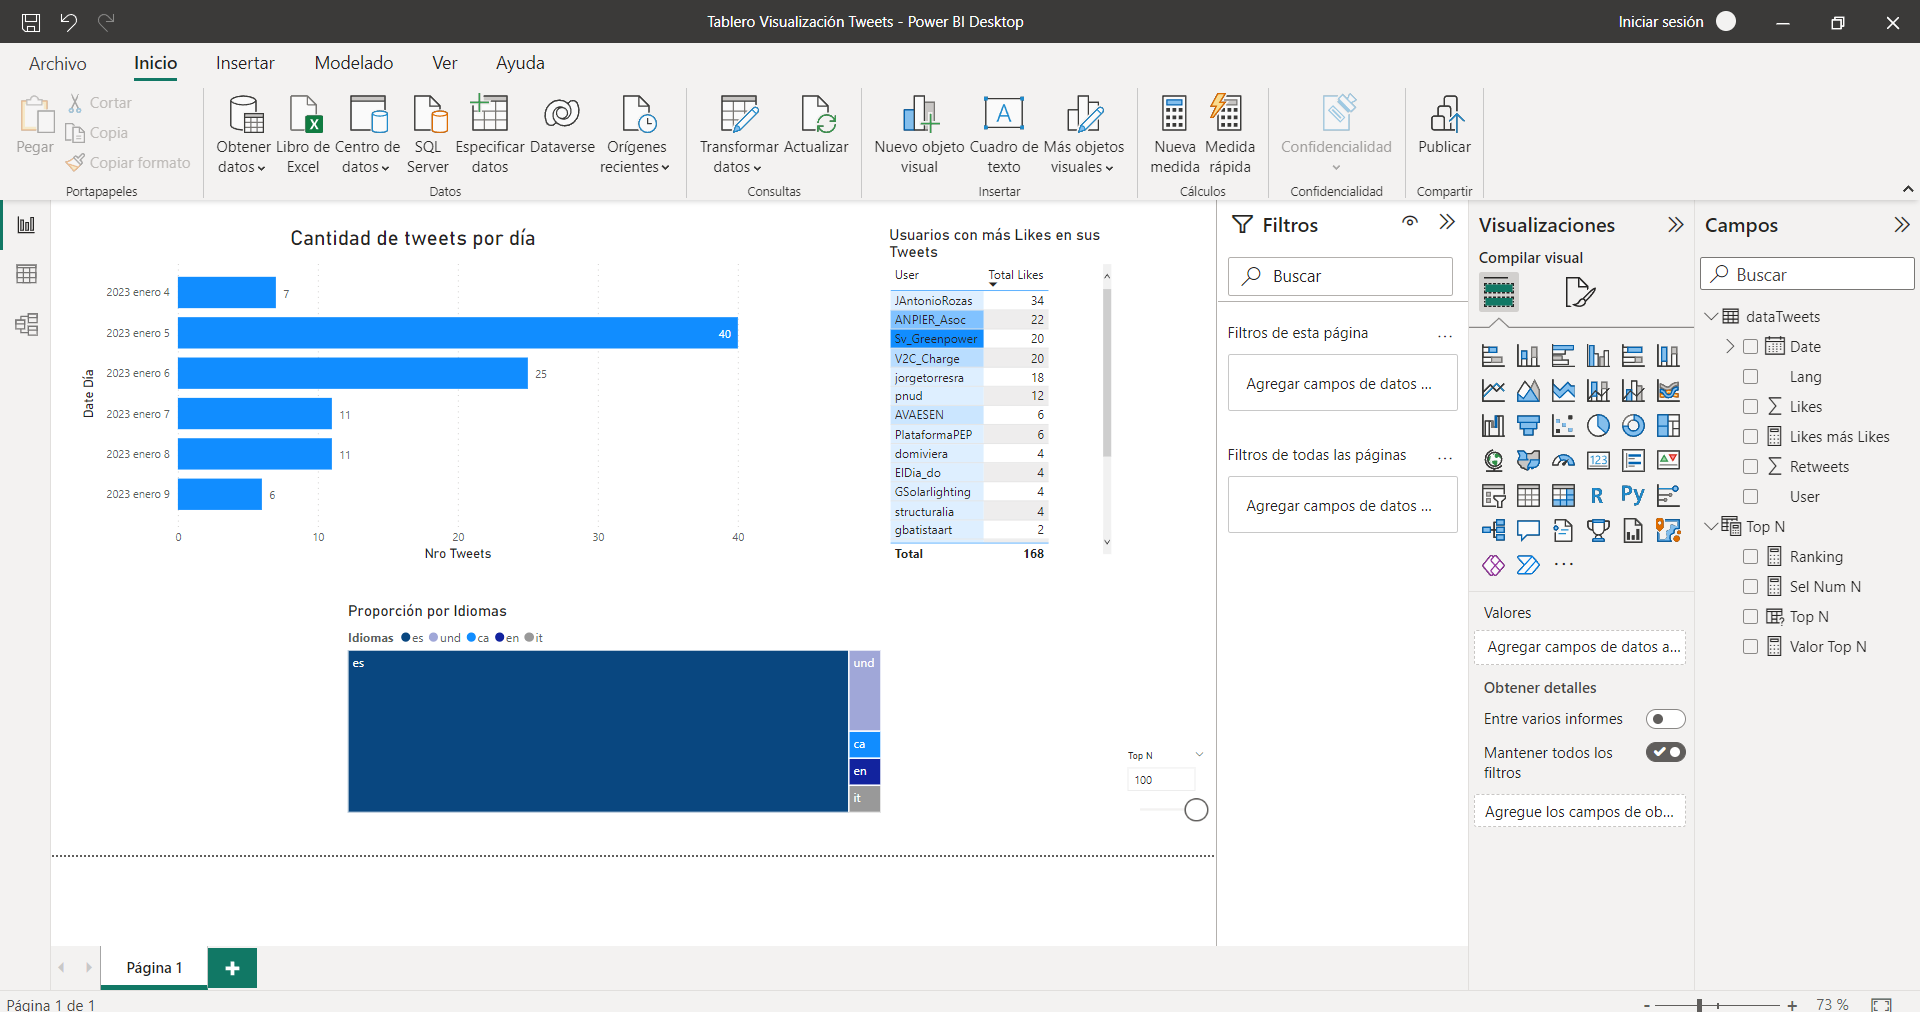

The dashboard page shown, as its layout file describes it:
{"tool":"powerbi","page":{"name":"Página 1","canvas":[1280,720],"ordinal":0},"visuals":[{"type":"barChart","title":"Cantidad de tweets por día","fields":{"Category":["dataTweets.Date.Variación.Jerarquía de fechas.Año","dataTweets.Date.Variación.Jerarquía de fechas.Mes","dataTweets.Date.Variación.Jerarquía de fechas.Día"],"Y":["dataTweets.Date"]},"box":[28.6,26.9,738.2,375],"z":0},{"type":"tableEx","title":"Usuarios con más Likes en sus Tweets","fields":{"Values":["dataTweets.User","dataTweets.Likes más Likes"]},"box":[916.4,26.9,253.9,375],"z":1000},{"type":"treemap","fields":{"Group":["dataTweets.Lang"],"Values":["dataTweets.Lang"]},"box":[321.2,440.6,595.3,237.1],"z":2000},{"type":"slicer","fields":{"Values":["Top N.Top N"]},"box":[1170.3,598.6,109.3,121.1],"z":3000}]}

Visuals, with their boxes on the page's 1280x720 design canvas (x1, y1, x2, y2). These are canvas units, not pixel positions in the 1920x1012 screenshot, which may show the page scaled, cropped or inside an application window:
"Cantidad de tweets por día" barChart: l=29, t=27, r=767, b=402
"Usuarios con más Likes en sus Tweets" tableEx: l=916, t=27, r=1170, b=402
treemap - dataTweets.Lang x dataTweets.Lang: l=321, t=441, r=916, b=678
slicer - Top N.Top N: l=1170, t=599, r=1280, b=720
